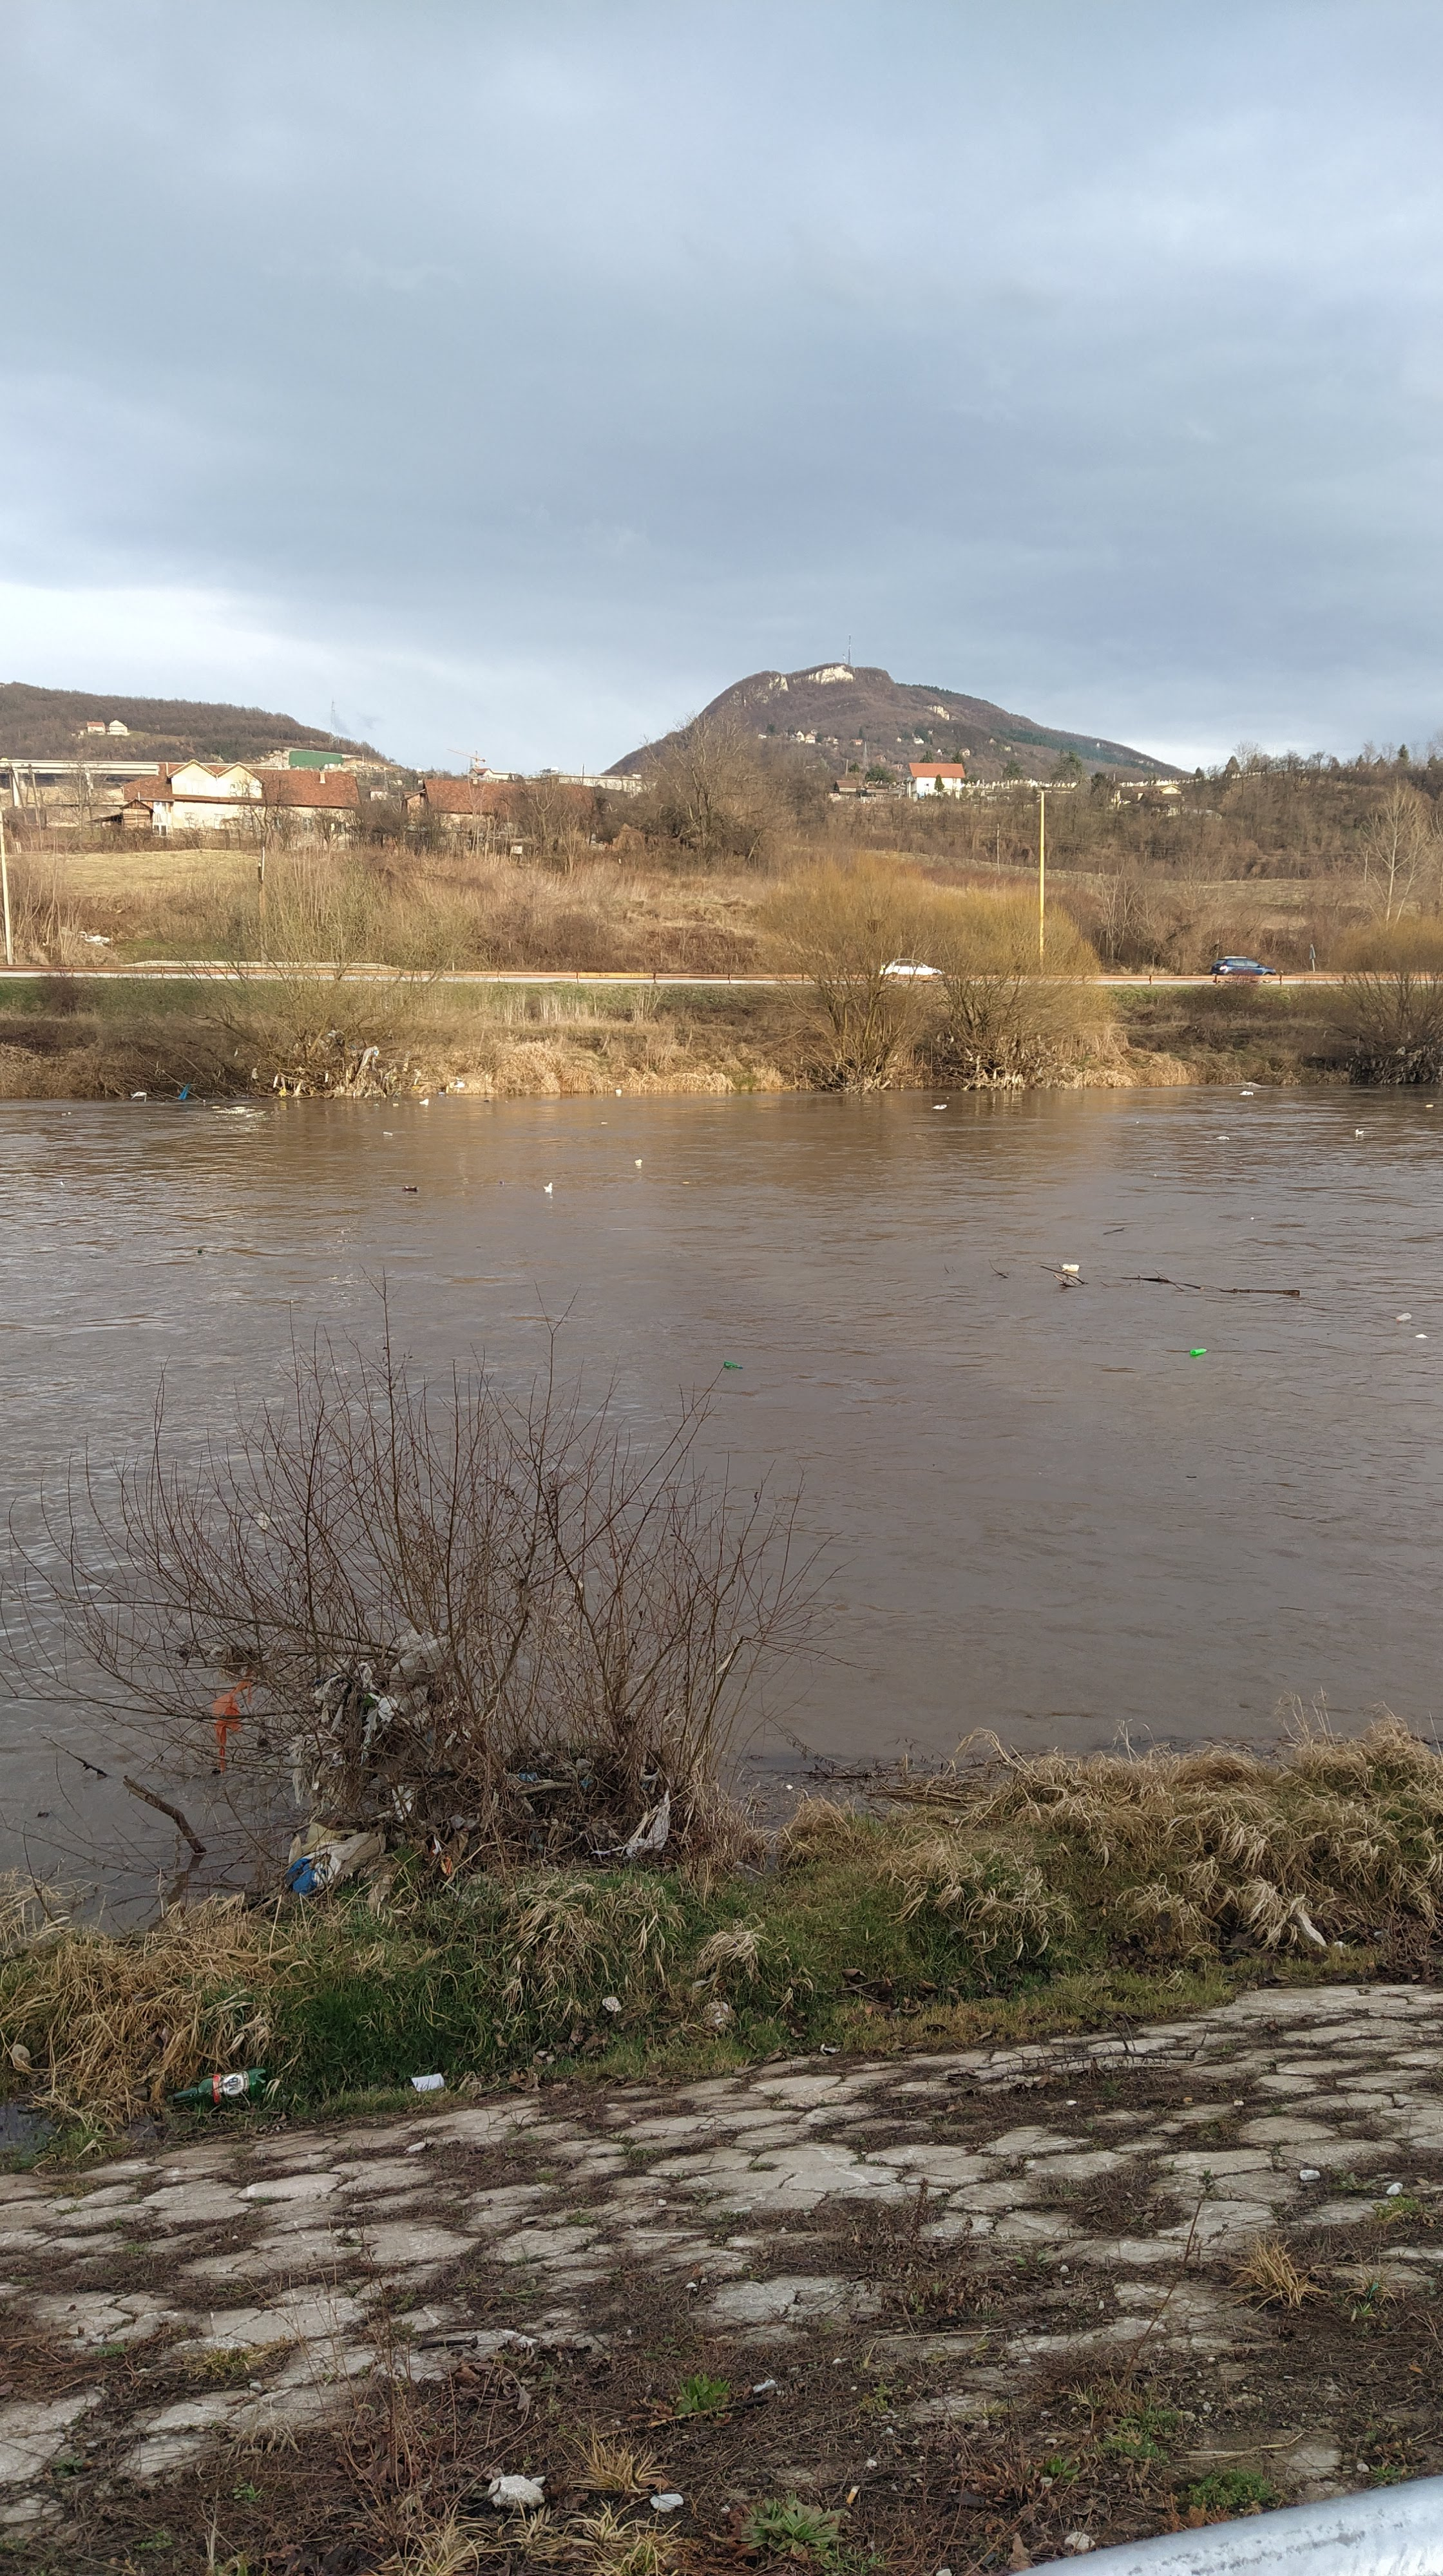Plastic Bottle: (1395, 1311, 1411, 1323), (259, 1513, 269, 1530), (722, 1361, 744, 1368), (1190, 1346, 1208, 1353), (404, 1185, 418, 1191), (382, 1131, 393, 1136), (197, 1247, 204, 1251)
